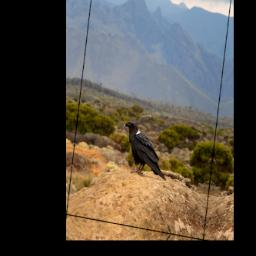Crow: (118, 119, 173, 184)
